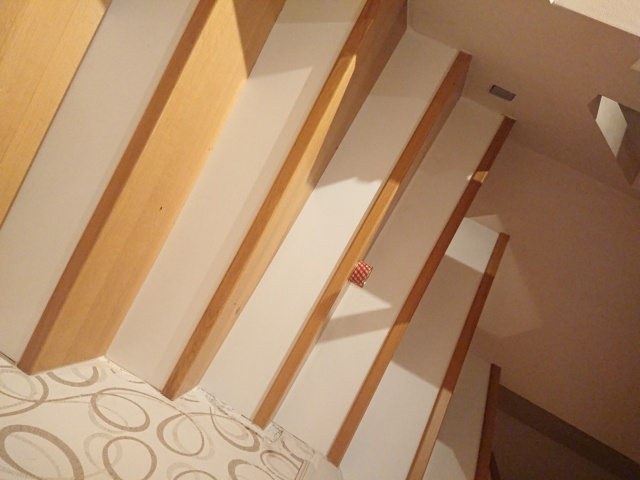Podravka Luncheon Meat 150g: (345, 258, 374, 290)
